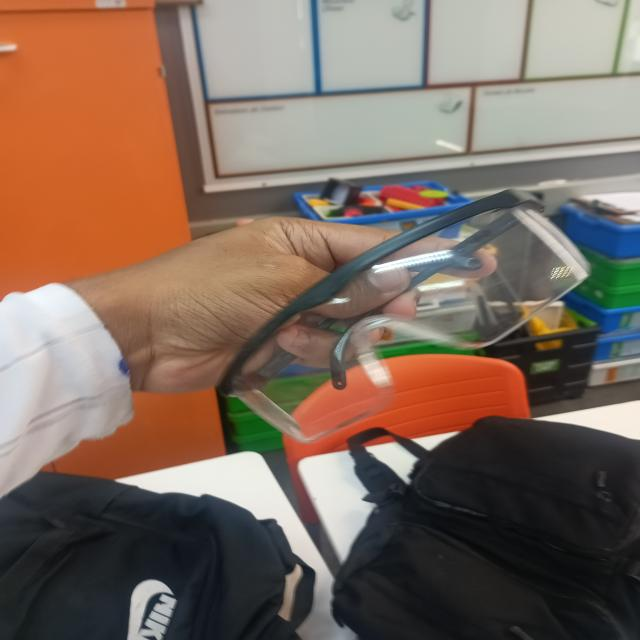oculos-epi: (215, 189, 594, 443)
